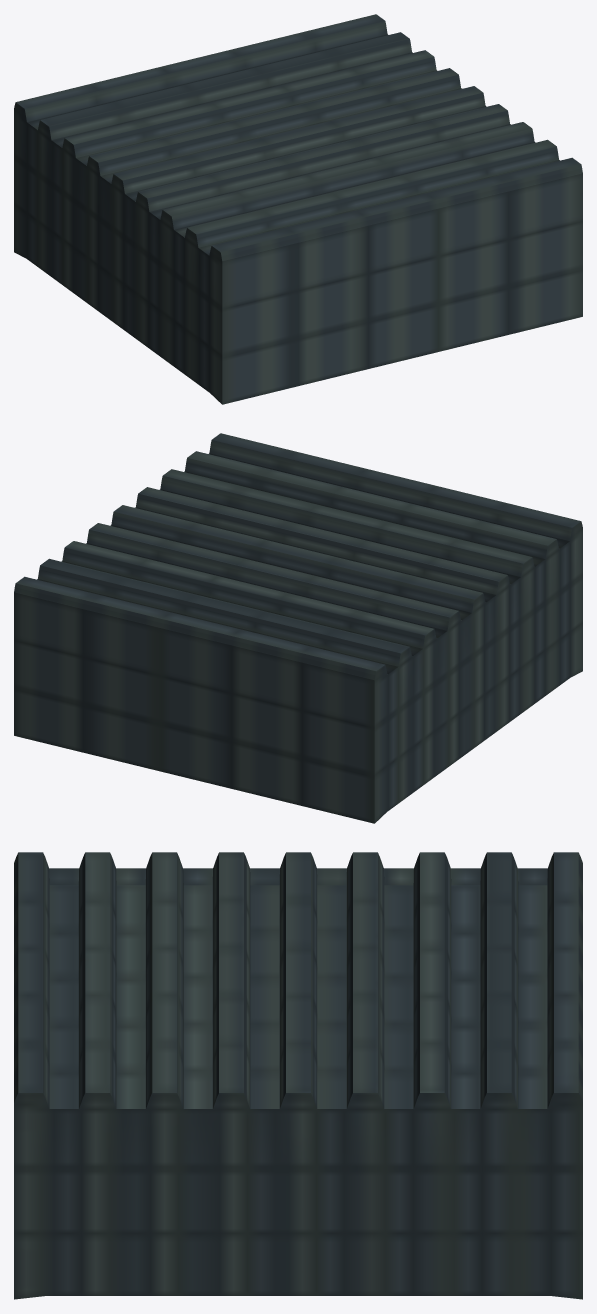
The model's file is Metal_Horizontal_Sheet.obj.
The picture shows the model from 3 angles, top to bottom: view 1: azimuth 30°, elevation 25°; view 2: azimuth 150°, elevation 25°; view 3: azimuth 270°, elevation 25°; orthographic projection. The views are drawn at different scales.
Visible parts, largest first — view 1: Cube.001; view 2: Cube.001; view 3: Cube.001.
Boxes of the visible parts, <box> form: Cube.001: <box>14,14,582,404</box>; Cube.001: <box>14,433,582,823</box>; Cube.001: <box>14,852,582,1299</box>.
Size of the model in its own units: 0.5 by 0.2004 by 0.5.
